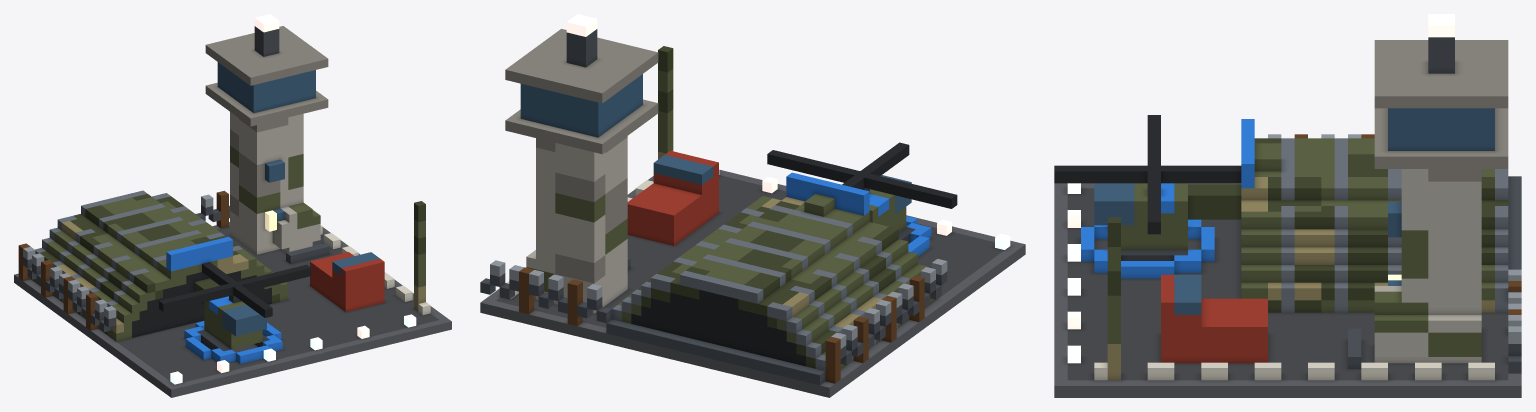
The model's file is cm_airfield_1.glb.
3 views of the same model, side by side, from view 1: azimuth 30°, elevation 25°; view 2: azimuth 150°, elevation 25°; view 3: azimuth 270°, elevation 25° (orthographic). The views are drawn at different scales.
Visible parts, largest first — view 1: cm_airfield_1_body; view 2: cm_airfield_1_body; view 3: cm_airfield_1_body.
Boxes of the visible parts, bbox=[...] form: cm_airfield_1_body: bbox=[14, 14, 451, 397]; cm_airfield_1_body: bbox=[480, 14, 1025, 397]; cm_airfield_1_body: bbox=[1054, 14, 1521, 397].
Size of the model in its own units: 2.25 by 1.75 by 2.19.
1 material, 1 textured.
